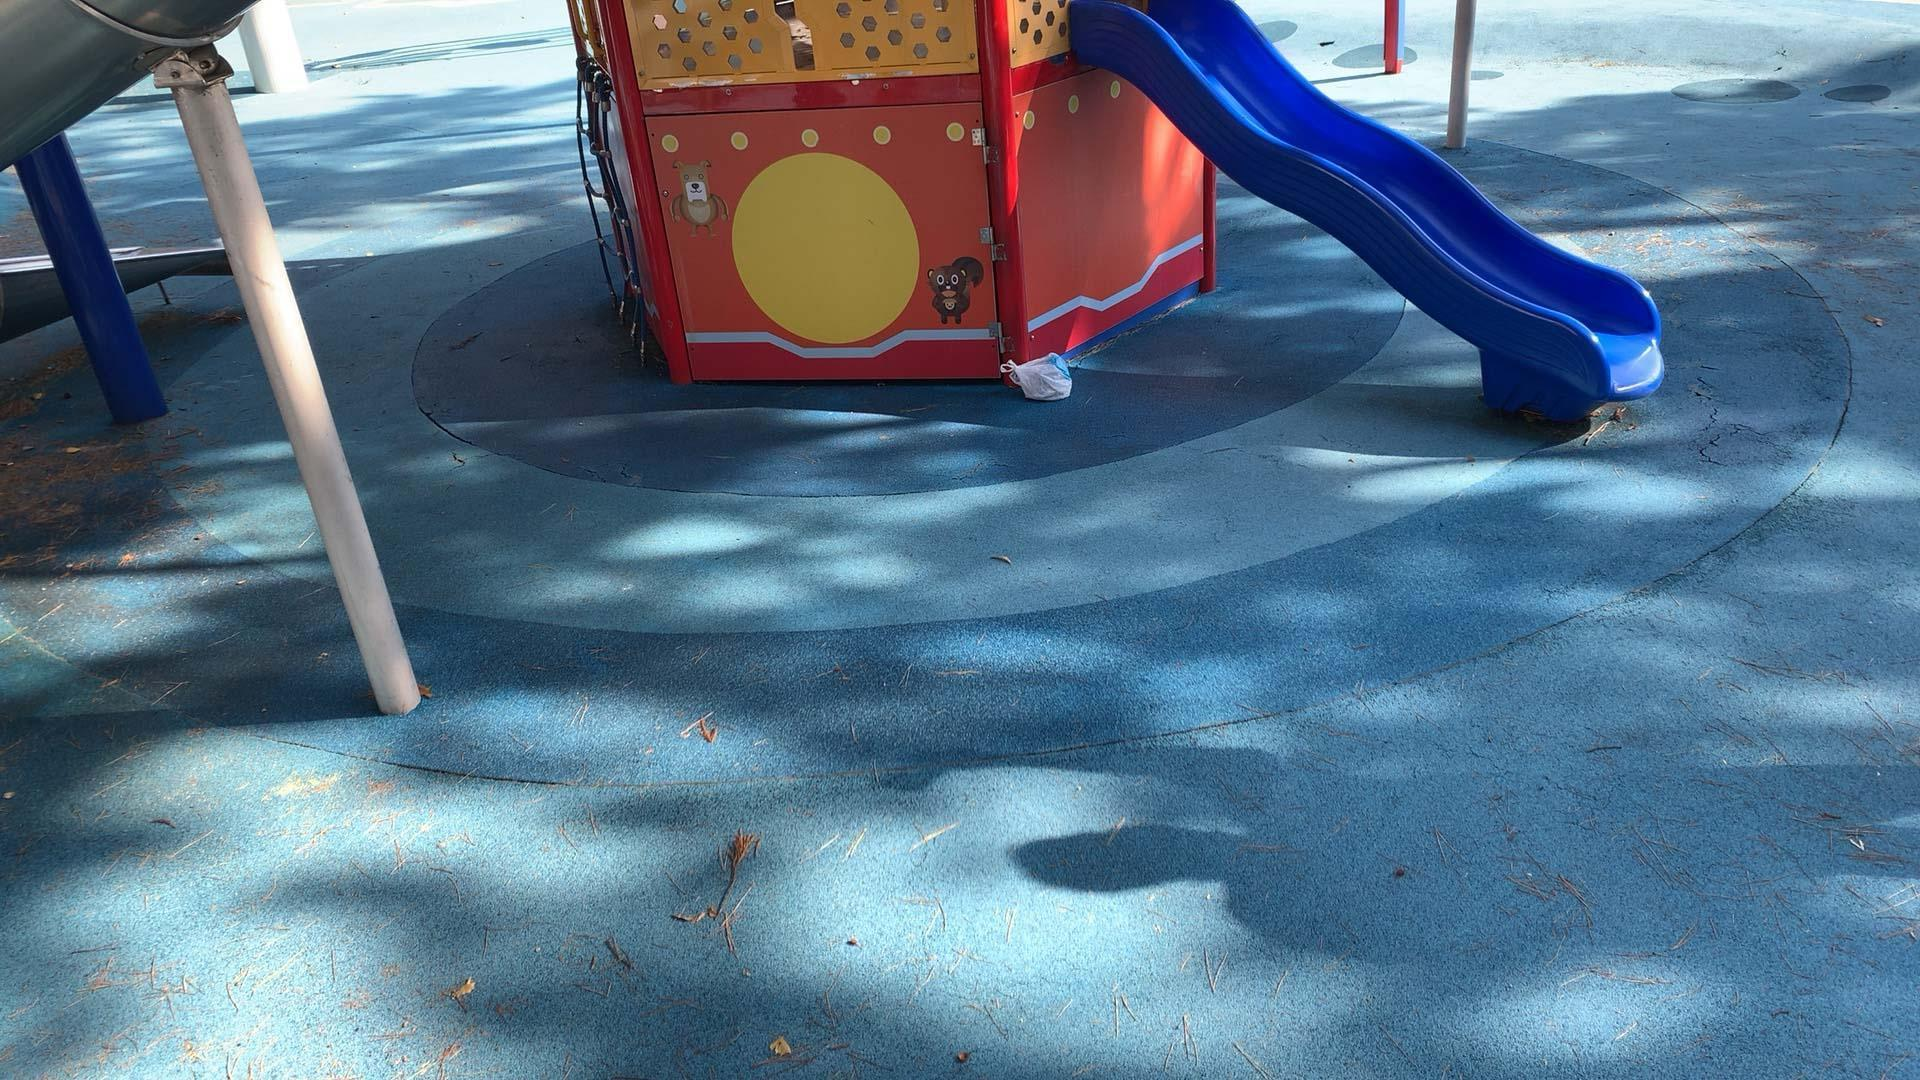white_bag: (993, 348, 1079, 411)
